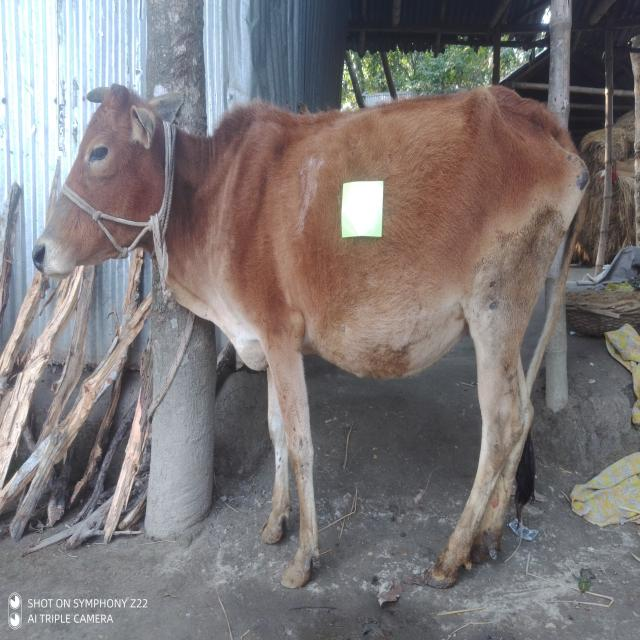badan_sapi: (265, 120, 561, 358)
sapi: (31, 79, 591, 612)
